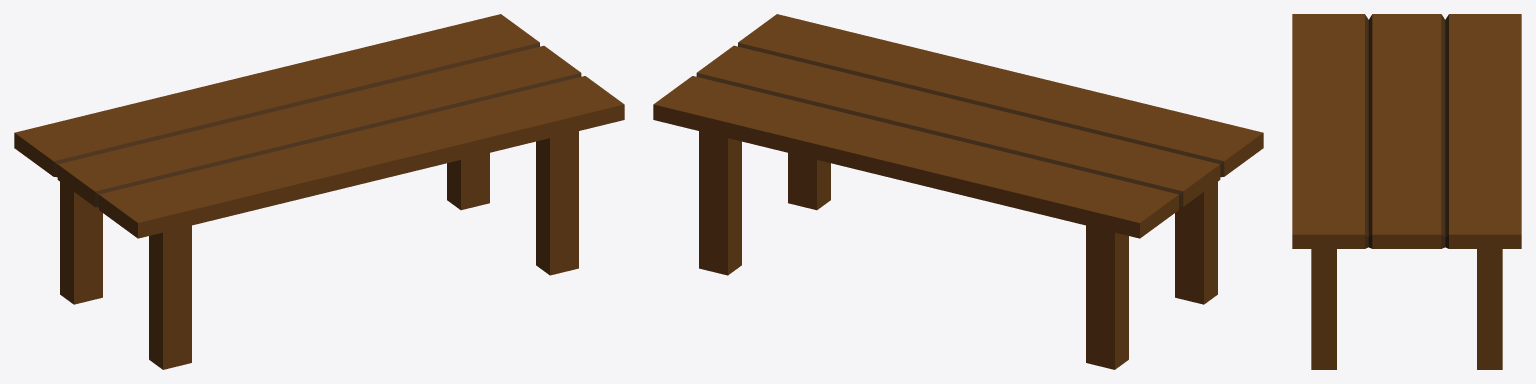
The model's file is TableUV.fbx.
3 renders of one model, left to right at view 1: azimuth 30°, elevation 25°; view 2: azimuth 150°, elevation 25°; view 3: azimuth 270°, elevation 25°, orthographic. The views are drawn at different scales.
Parts seen in each view (by area): view 1: Cube; view 2: Cube; view 3: Cube.
Part boxes in pixels (x1=…): Cube: x1=14, y1=14, x2=624, y2=369; Cube: x1=653, y1=14, x2=1263, y2=369; Cube: x1=1292, y1=14, x2=1521, y2=369.
Bounding box in the file's own units: 276 × 88.18 × 121.
